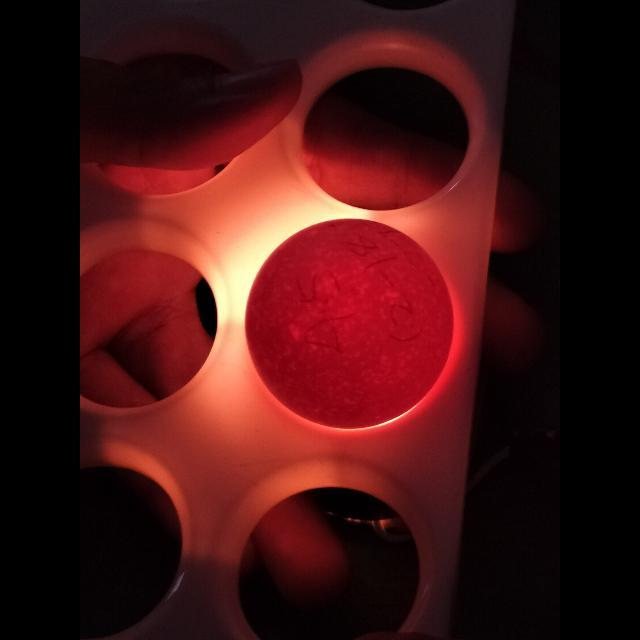Infertile: (247, 220, 455, 434)
